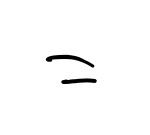eqv: (44, 51, 100, 87)
